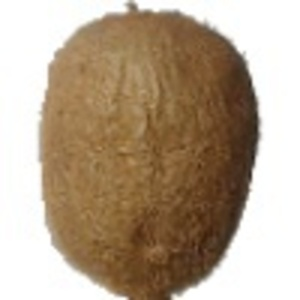kiwi: (37, 1, 262, 300)
